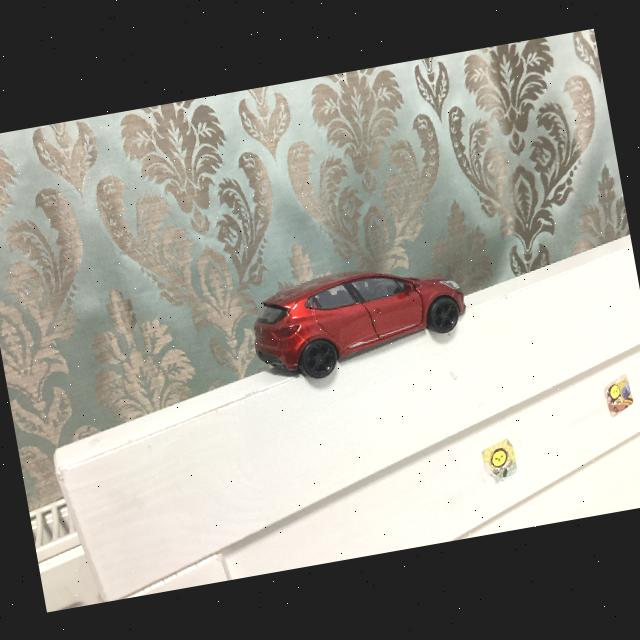Dogru_Jant: (303, 341, 336, 374), (429, 298, 458, 331)
